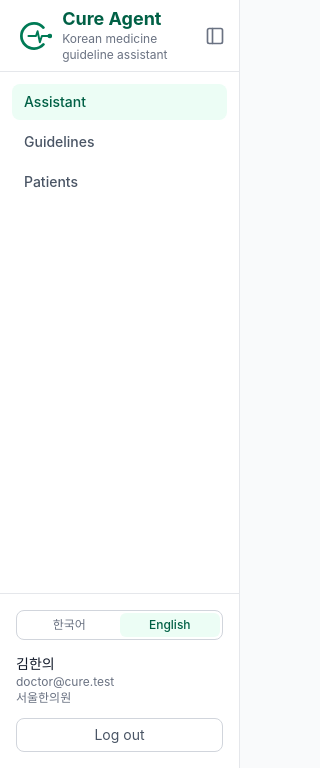
Test case: AppShell 표시 언어 전환 › 영문 화면에서 한국어로 되돌릴 수 있다 — 전환은 양방향이다
This screenshot has width=320, height=768.
Expected: the link "Assistant" is shown, [12,84,227,120]
Click the button "한국어". click: coordinates (69, 625)
box: [19,613,120,637]
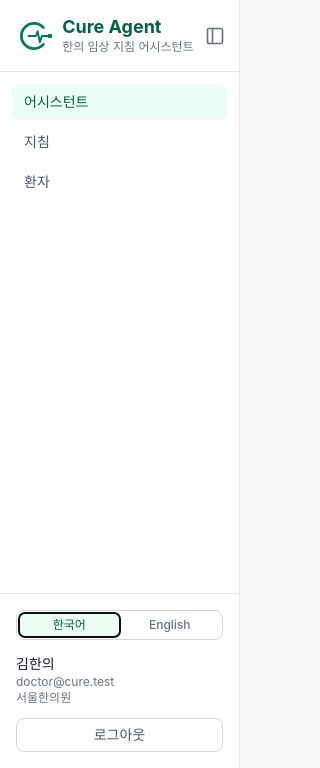
Expected: the link "어시스턴트" is shown, [12,84,227,120]
